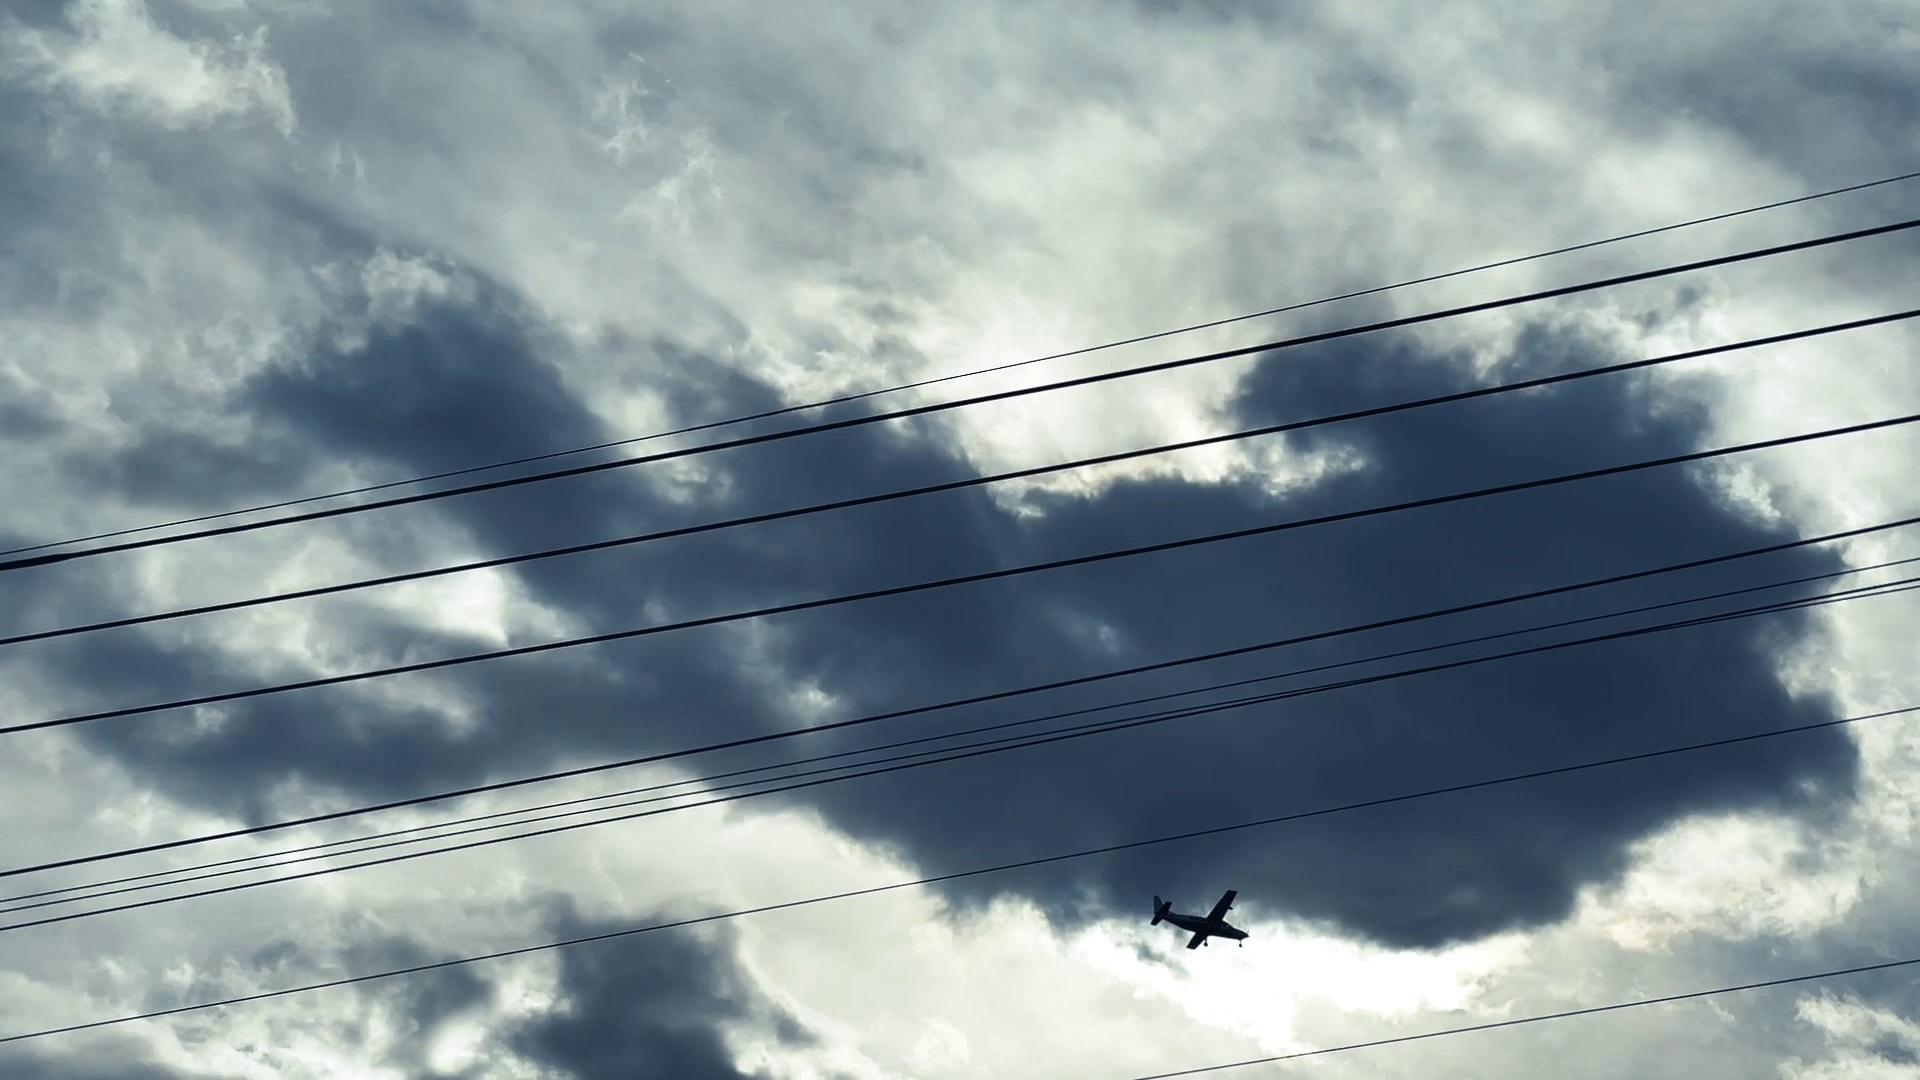plane: (1150, 887, 1249, 948)
